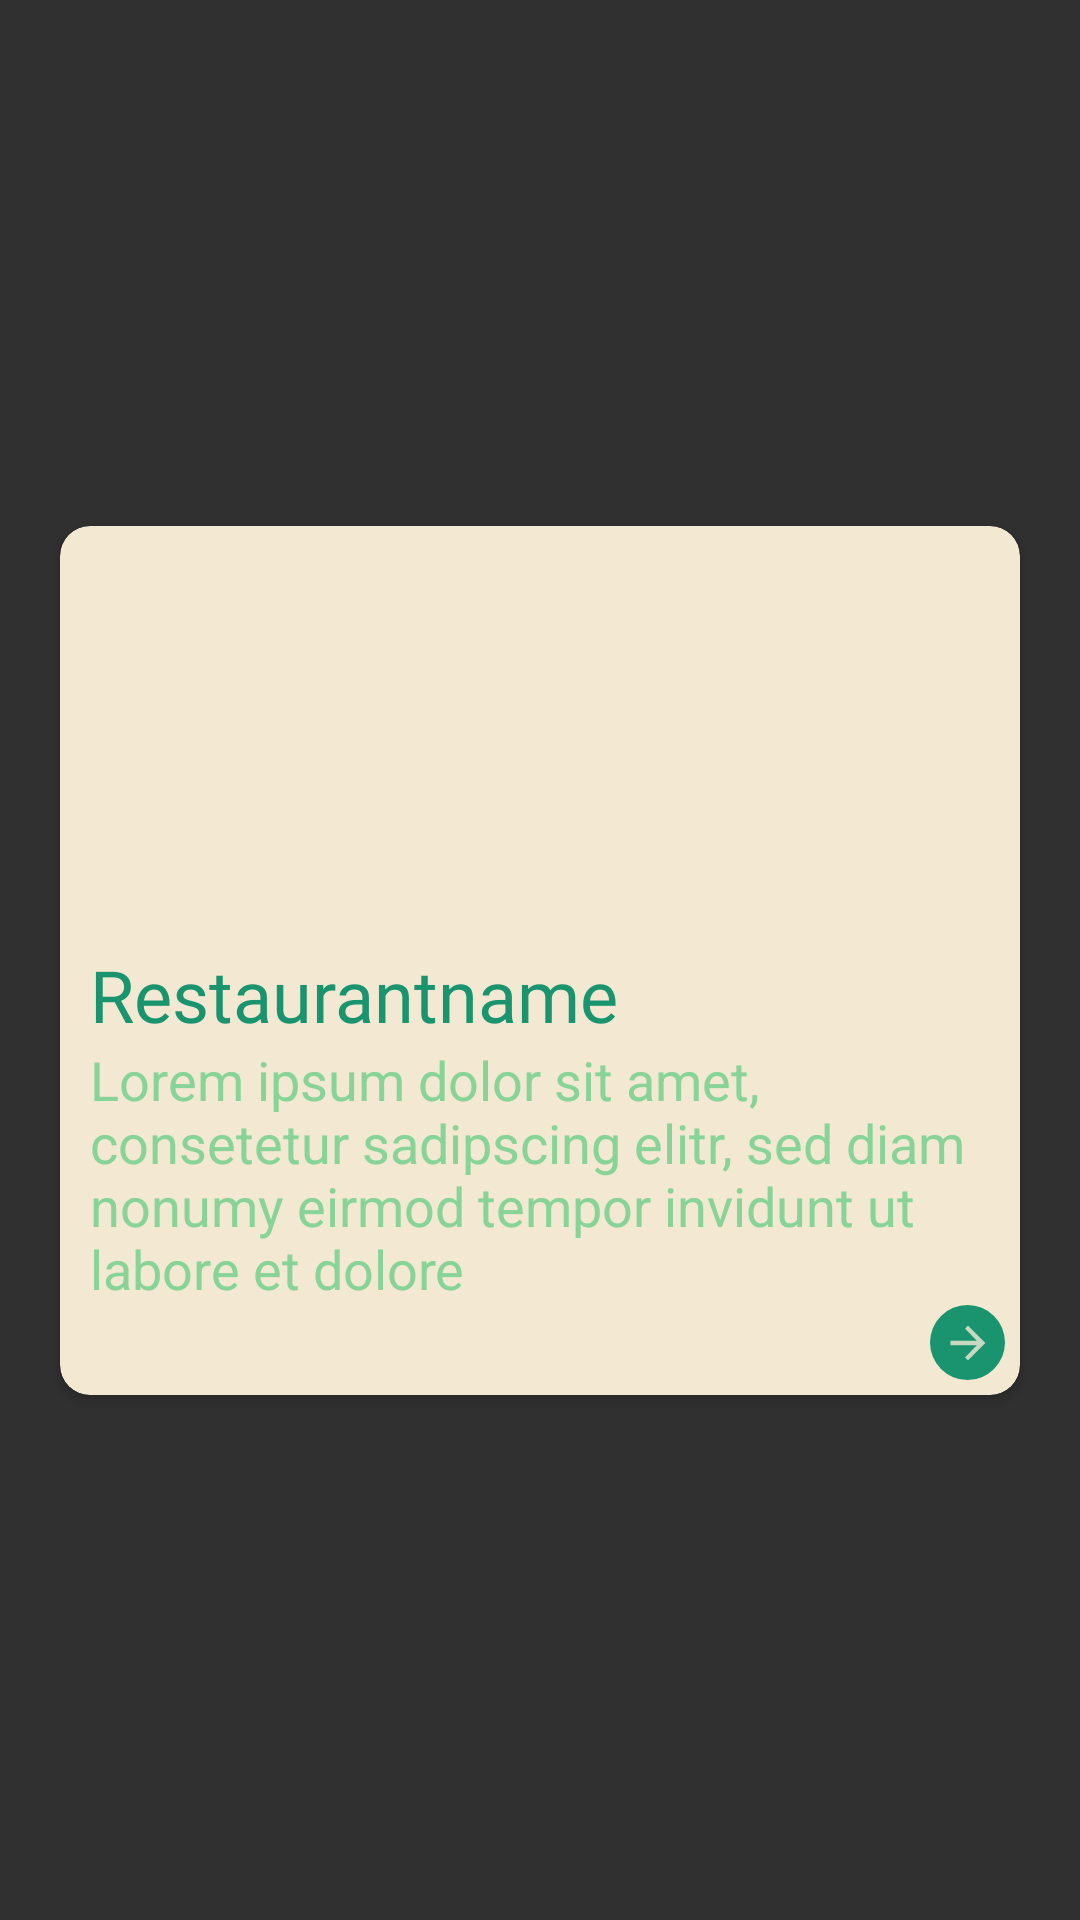

Icon click points for this 1080 x 1920 phone screenshot, format point (x, y):
arrow: point (967, 1342)
